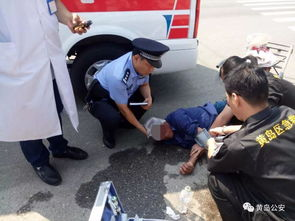fall: (145, 86, 240, 176)
